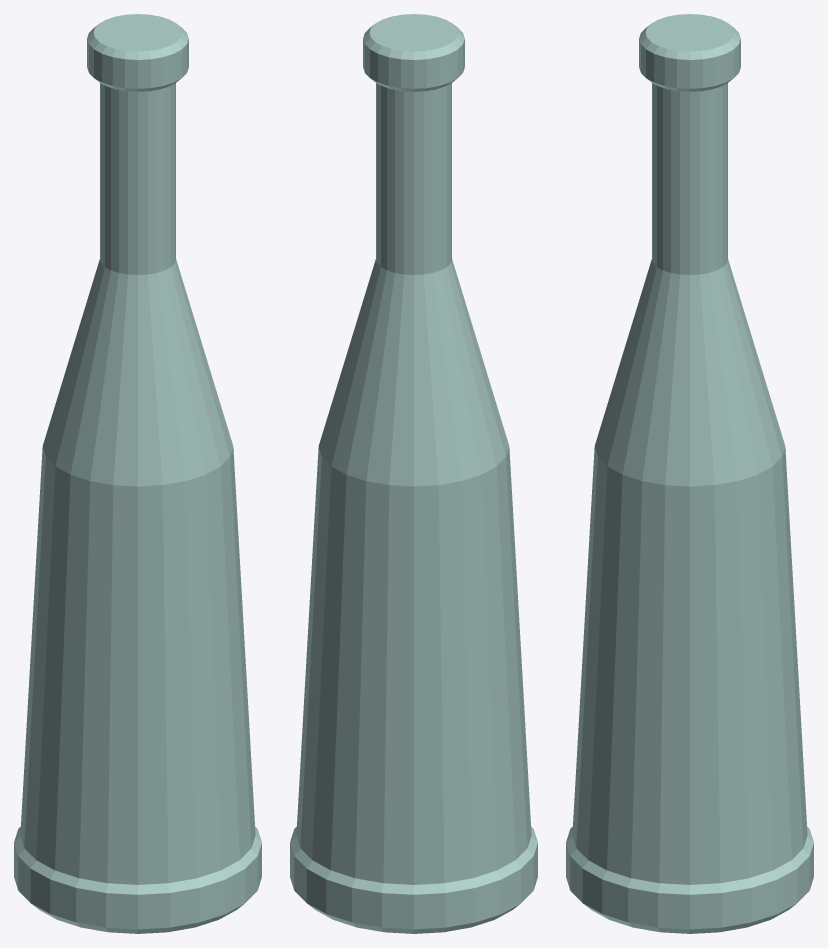
The model's file is bottle.glb.
3 renders of one model, left to right at view 1: azimuth 30°, elevation 25°; view 2: azimuth 150°, elevation 25°; view 3: azimuth 270°, elevation 25°, orthographic.
Visible parts, largest first — view 1: bottle; view 2: bottle; view 3: bottle.
Part boxes in pixels (left/top/right/bottom): bottle: left=14, top=14, right=261, bottom=933; bottle: left=290, top=14, right=537, bottom=933; bottle: left=566, top=14, right=813, bottom=933.
Size of the model in its own units: 0.078 by 0.296 by 0.078.
